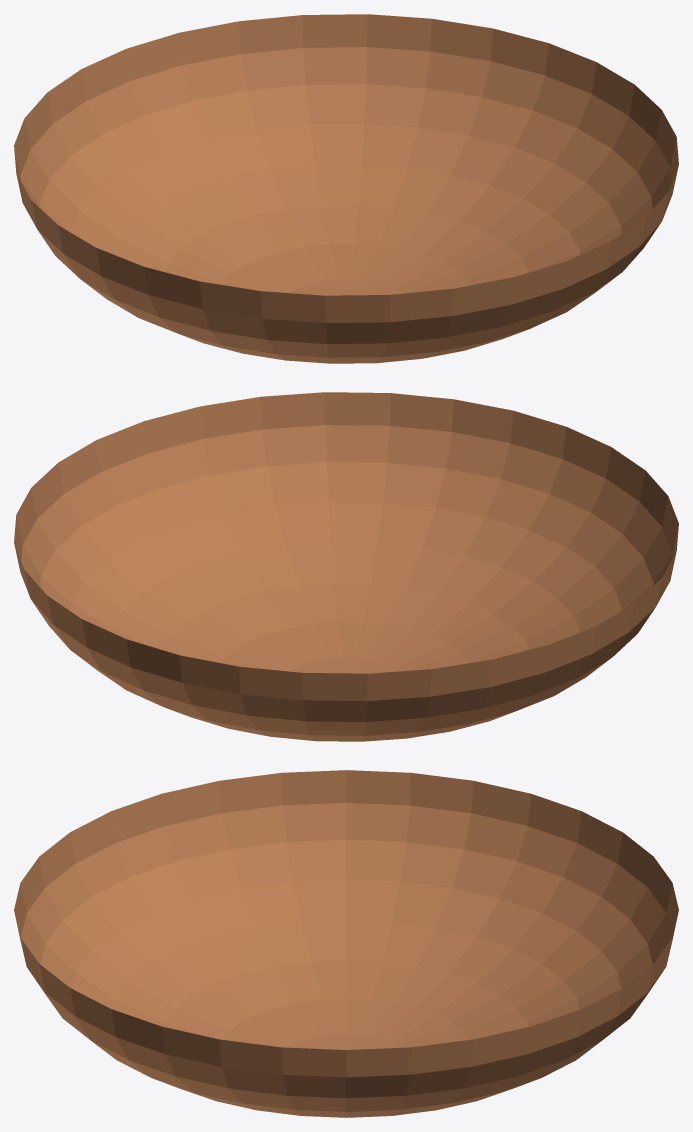
The picture shows the model from 3 angles, top to bottom: view 1: azimuth 30°, elevation 25°; view 2: azimuth 150°, elevation 25°; view 3: azimuth 270°, elevation 25°; orthographic projection.
Parts seen in each view (by area): view 1: 球, 球.001; view 2: 球, 球.001; view 3: 球, 球.001.
Part boxes in pixels (x1,y1,x2,y2): 球: (14,14,678,363); 球.001: (14,15,678,363); 球: (14,392,678,741); 球.001: (14,392,678,741); 球: (14,770,678,1117); 球.001: (14,770,677,1117).
Bounding box in the file's own units: 390 × 100 × 392.
